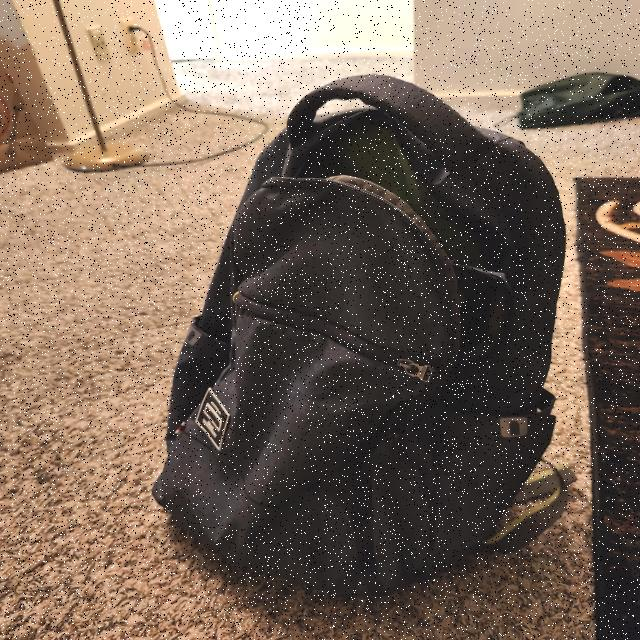bag: (154, 66, 560, 584)
